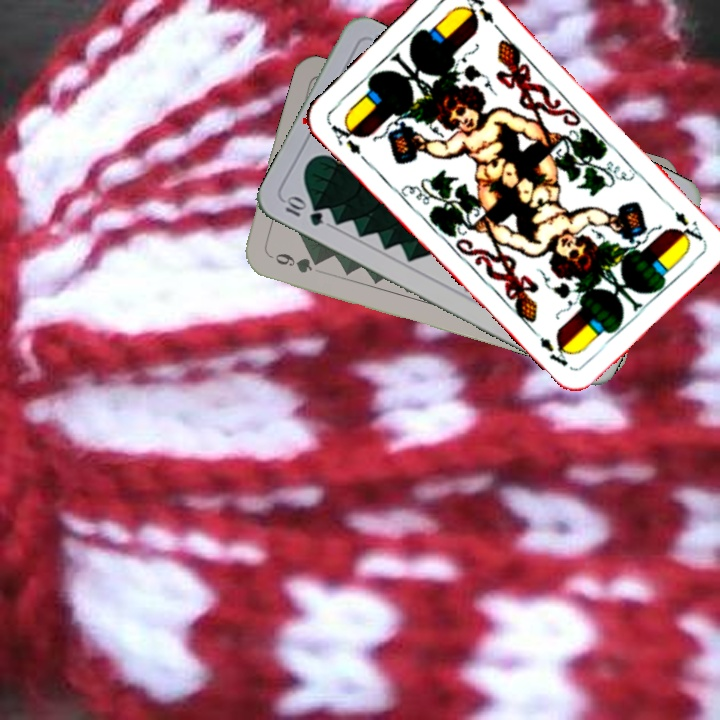EA: (325, 117, 371, 167), (660, 196, 706, 244)
G10: (280, 193, 327, 229)
G9: (265, 249, 324, 276)
